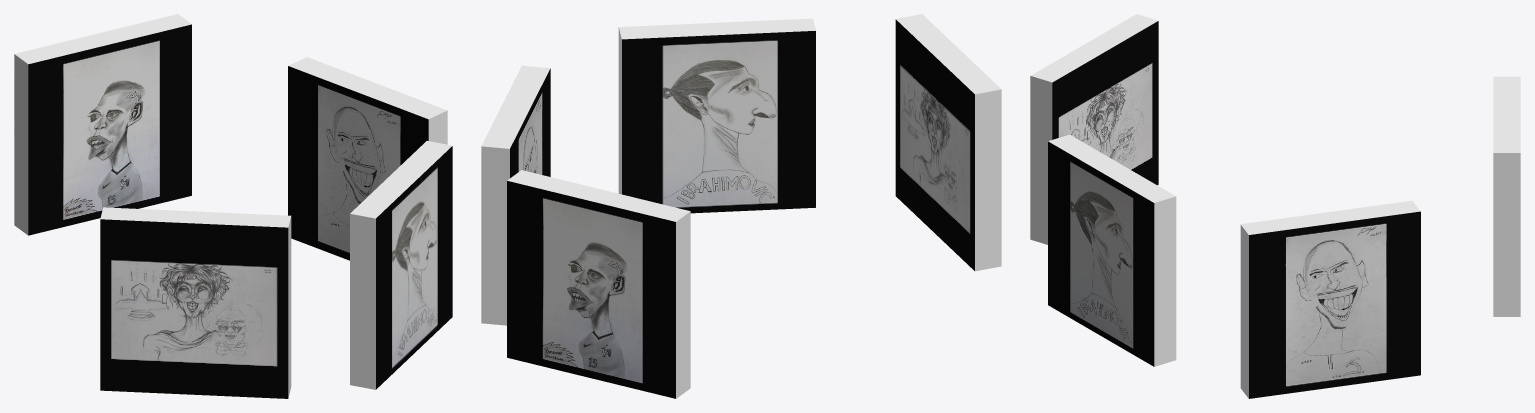
Rendered from 4_square.obj.
The picture shows the model from 3 angles, left to right: view 1: azimuth 30°, elevation 25°; view 2: azimuth 150°, elevation 25°; view 3: azimuth 270°, elevation 25°; orthographic projection. The views are drawn at different scales.
Parts seen in each view (by area): view 1: Cube_4, Cube_1, Cube_3, Cube_2; view 2: Cube_3, Cube_1, Cube_4, Cube_2; view 3: Cube_2, Cube_3, Cube_4, Cube_1.
Part boxes in pixels (bbox=[...]): Cube_4: bbox=[100, 207, 291, 398]; Cube_1: bbox=[14, 14, 191, 235]; Cube_3: bbox=[350, 141, 452, 389]; Cube_2: bbox=[288, 57, 447, 260]; Cube_3: bbox=[618, 18, 815, 213]; Cube_1: bbox=[507, 170, 690, 398]; Cube_4: bbox=[895, 14, 1001, 271]; Cube_2: bbox=[481, 65, 550, 325]; Cube_2: bbox=[1240, 200, 1420, 398]; Cube_3: bbox=[1048, 134, 1176, 366]; Cube_4: bbox=[1030, 14, 1158, 244]; Cube_1: bbox=[1493, 76, 1520, 316].
Bounding box in the file's own units: 744 × 358 × 813.
5 materials, 4 textured.
